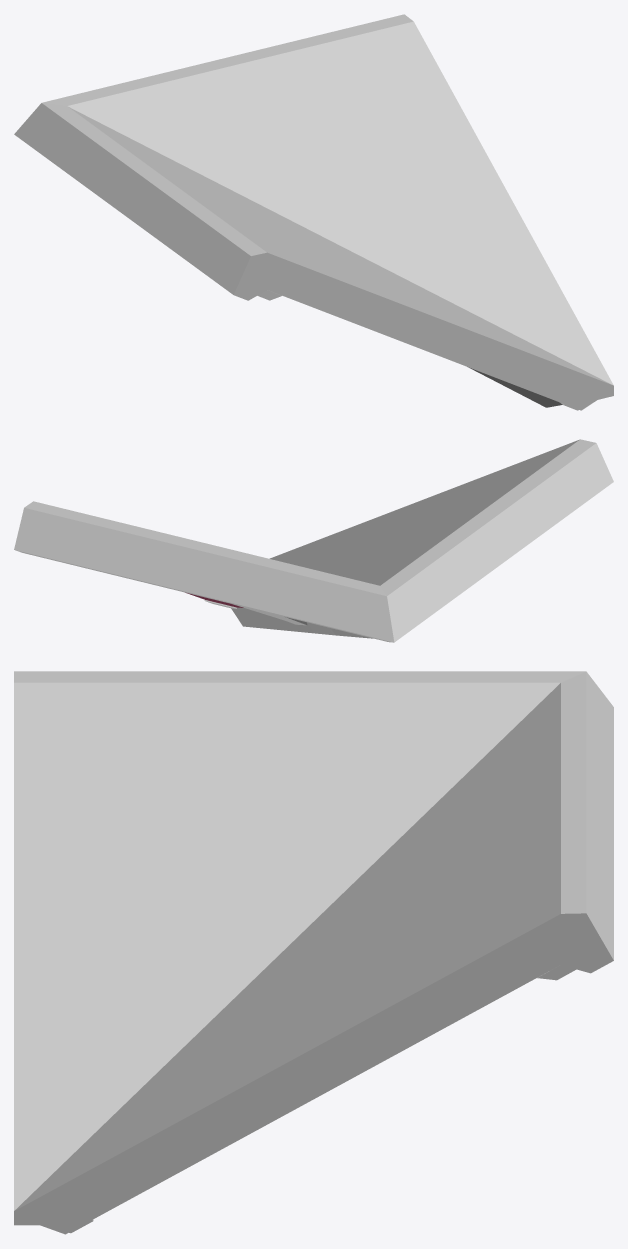
File: SM_Bld_Roof_M_Straight_Corner_In_01.fbx
3 renders of one model, top to bottom at view 1: azimuth 30°, elevation 25°; view 2: azimuth 150°, elevation 25°; view 3: azimuth 270°, elevation 25°, orthographic. The views are drawn at different scales.
Visible parts, largest first — view 1: SM_Bld_Roof_M_Straight_Corner_In_01; view 2: SM_Bld_Roof_M_Straight_Corner_In_01; view 3: SM_Bld_Roof_M_Straight_Corner_In_01.
Boxes of the visible parts, box(x1,y1,x2,y2) form: SM_Bld_Roof_M_Straight_Corner_In_01: box(14, 14, 613, 410); SM_Bld_Roof_M_Straight_Corner_In_01: box(14, 439, 613, 642); SM_Bld_Roof_M_Straight_Corner_In_01: box(14, 671, 613, 1234).
Size of the model in its own units: 262 by 160 by 262.
